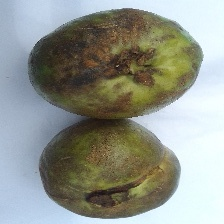guava: (6, 6, 174, 203)
